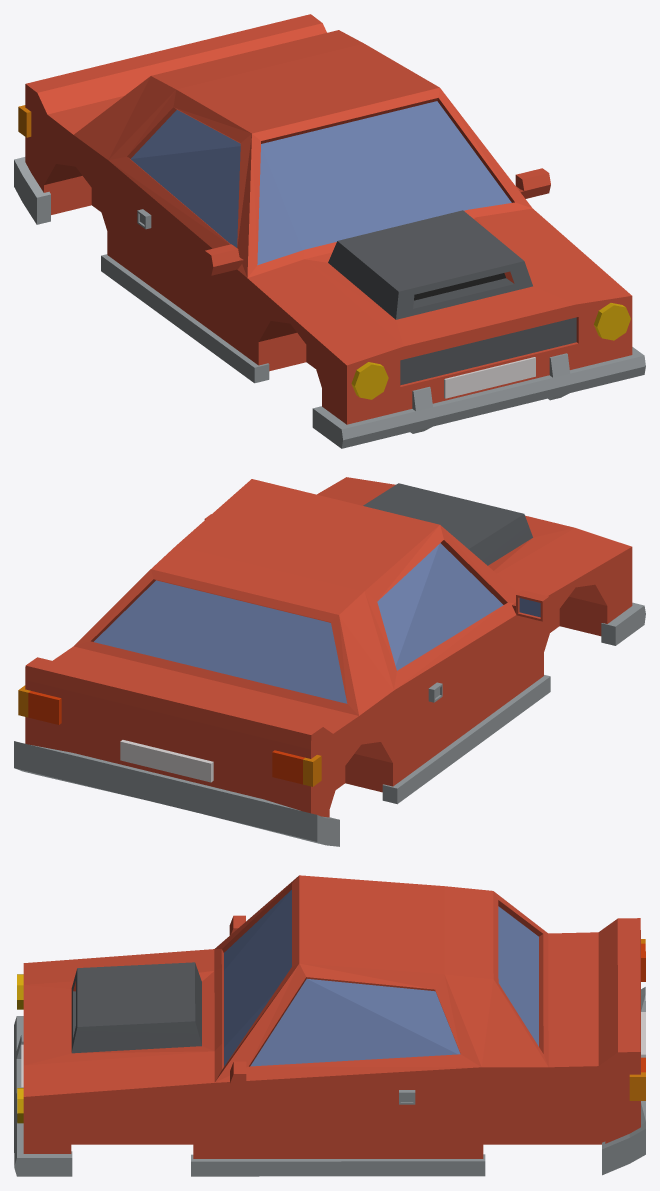
The model's file is City_Car_07.glb.
3 views of the same model, one above another, from view 1: azimuth 30°, elevation 25°; view 2: azimuth 150°, elevation 25°; view 3: azimuth 270°, elevation 25° (orthographic). The views are drawn at different scales.
Visible parts, largest first — view 1: City_Car_07; view 2: City_Car_07; view 3: City_Car_07.
Boxes of the visible parts, x1=… form: City_Car_07: x1=14, y1=14, x2=645, y2=448; City_Car_07: x1=14, y1=477, x2=645, y2=846; City_Car_07: x1=14, y1=875, x2=645, y2=1176.
Size of the model in its own units: 1.9 by 1.09 by 3.2.
Materials: 1 (1 with a texture image).
